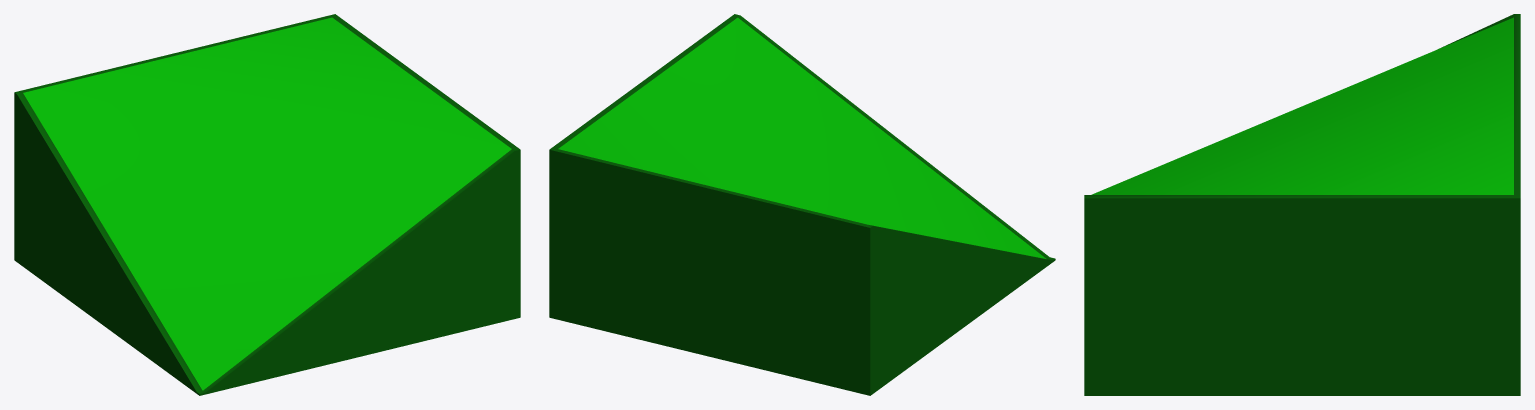
The model's file is Casilla 3.fbx.
3 views of the same model, side by side, from view 1: azimuth 30°, elevation 25°; view 2: azimuth 150°, elevation 25°; view 3: azimuth 270°, elevation 25° (orthographic). The views are drawn at different scales.
Visible parts, largest first — view 1: pCube4; view 2: pCube4; view 3: pCube4.
Boxes of the visible parts, bbox=[...] form: pCube4: bbox=[14, 14, 520, 395]; pCube4: bbox=[549, 14, 1055, 395]; pCube4: bbox=[1084, 14, 1520, 395].
Bounding box in the file's own units: 200 × 100 × 200.
